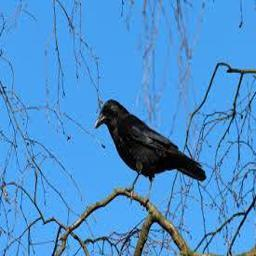Crow: (94, 99, 206, 204)
